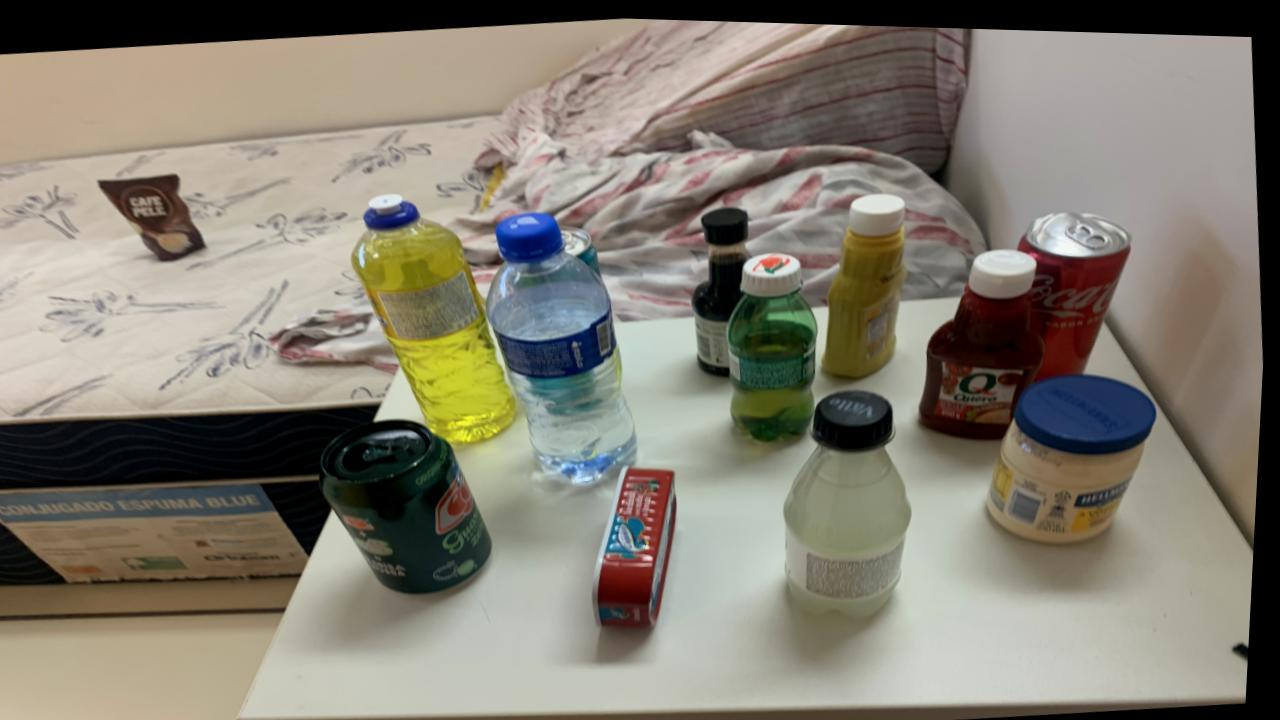Coke-Drinks: (1020, 205, 1133, 373)
Detergent-Cleanup_Items: (354, 191, 519, 439)
English_Sauce-Pantry_Items: (694, 203, 750, 371)
Guarana-Drinks: (730, 248, 821, 437)
Guarana_Can-Drinks: (324, 417, 498, 591)
Ketchup-Pantry_Items: (922, 243, 1048, 433)
Mayonnaise-Pantry_Items: (992, 368, 1159, 537)
Mustard-Pantry_Items: (825, 187, 909, 373)
Soda-Drinks: (789, 384, 915, 611)
Tea-Drinks: (563, 223, 603, 271)
Tuna_Can-Pantry_Items: (598, 463, 682, 624), (598, 463, 680, 625)
Water_Bottle-Drinks: (489, 208, 641, 479)
